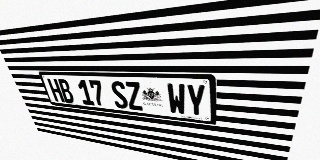1: (76, 80, 95, 106)
7: (88, 80, 107, 107)
B: (57, 79, 75, 103)
H: (47, 78, 65, 102)
S: (109, 81, 129, 109)
W: (166, 83, 186, 115)
Y: (185, 84, 206, 117)
Z: (124, 81, 144, 111)
